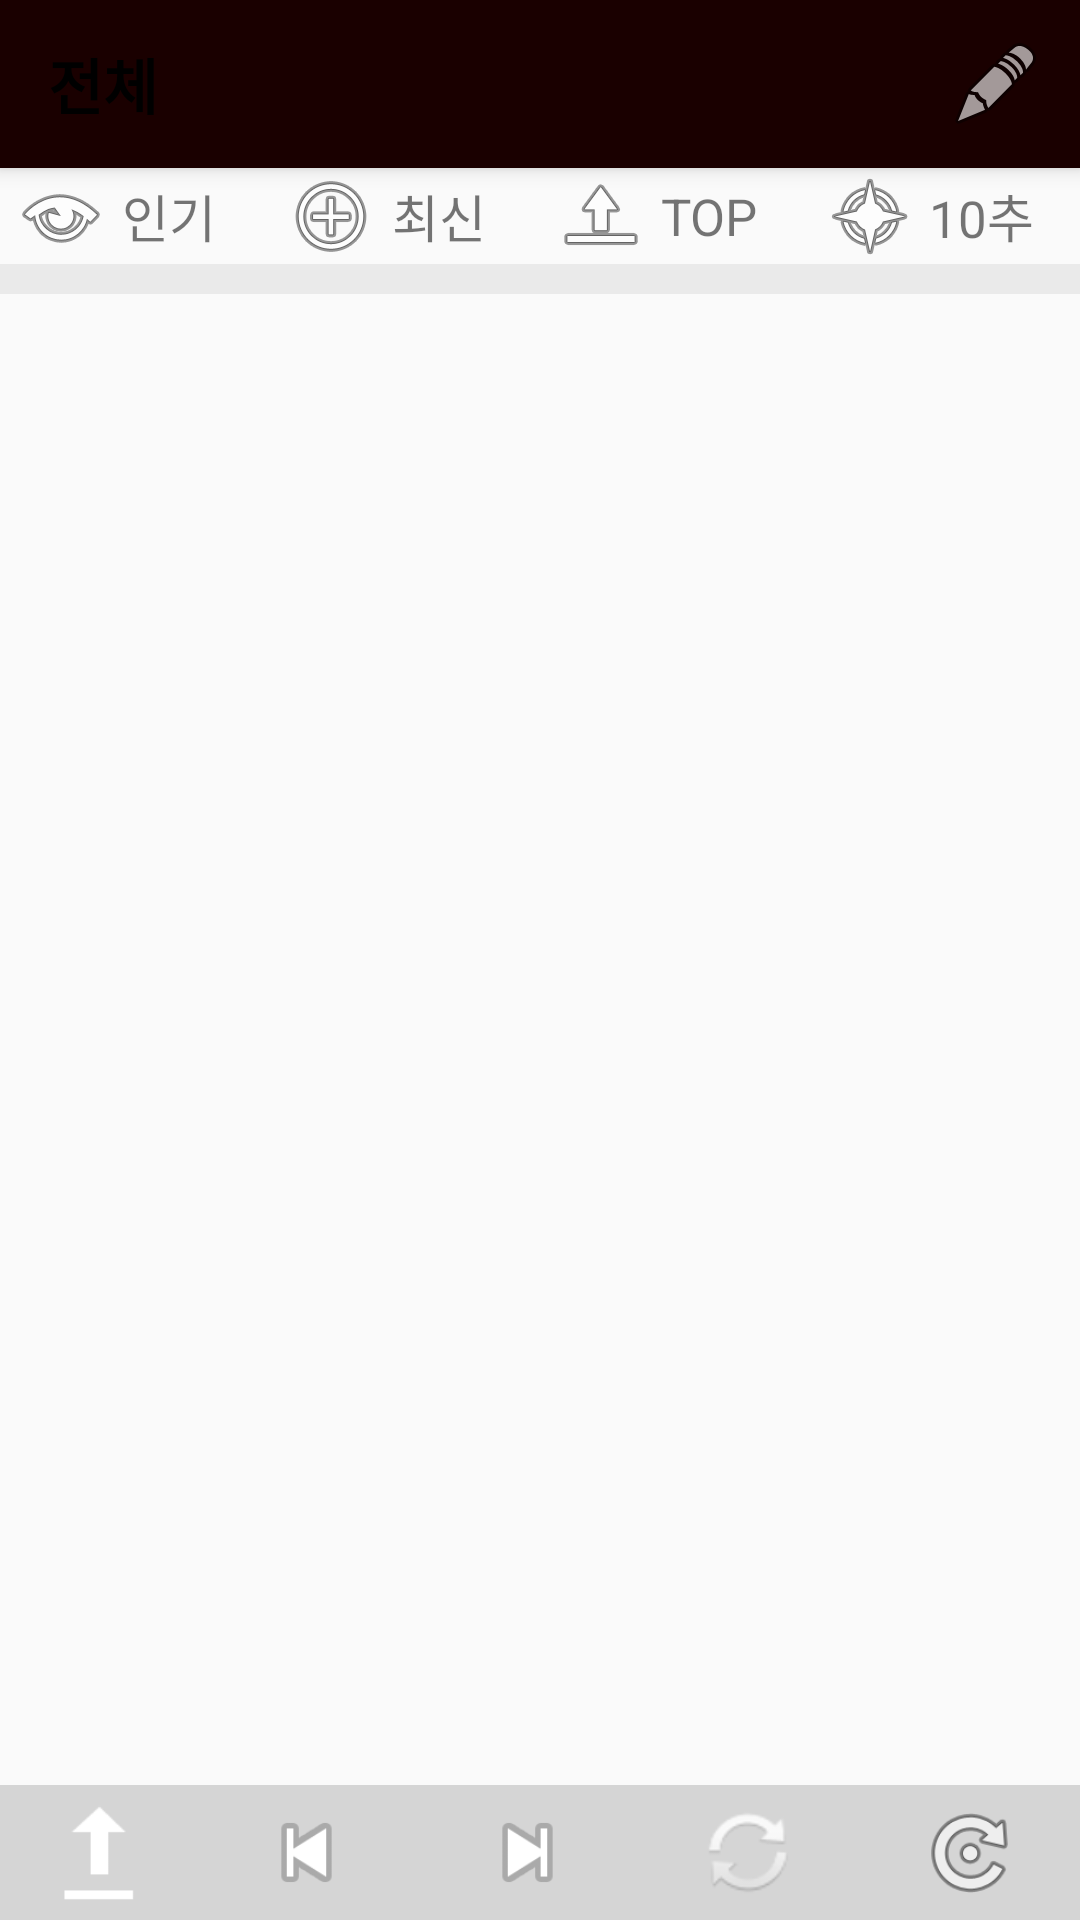

Locate icon controls on the screen. Image size 1080×1920, boxes as {"left": x1, "top": y1, "right": x2, "bottom": y2}.
add: {"left": 295, "top": 181, "right": 367, "bottom": 252}
compass: {"left": 832, "top": 179, "right": 908, "bottom": 254}
next: {"left": 502, "top": 1823, "right": 553, "bottom": 1882}
popup sync: {"left": 710, "top": 1815, "right": 784, "bottom": 1890}
previous: {"left": 281, "top": 1823, "right": 332, "bottom": 1882}
rotate: {"left": 931, "top": 1814, "right": 1008, "bottom": 1892}
upload: {"left": 564, "top": 184, "right": 638, "bottom": 245}, {"left": 65, "top": 1808, "right": 133, "bottom": 1899}
view: {"left": 0, "top": 168, "right": 122, "bottom": 264}
